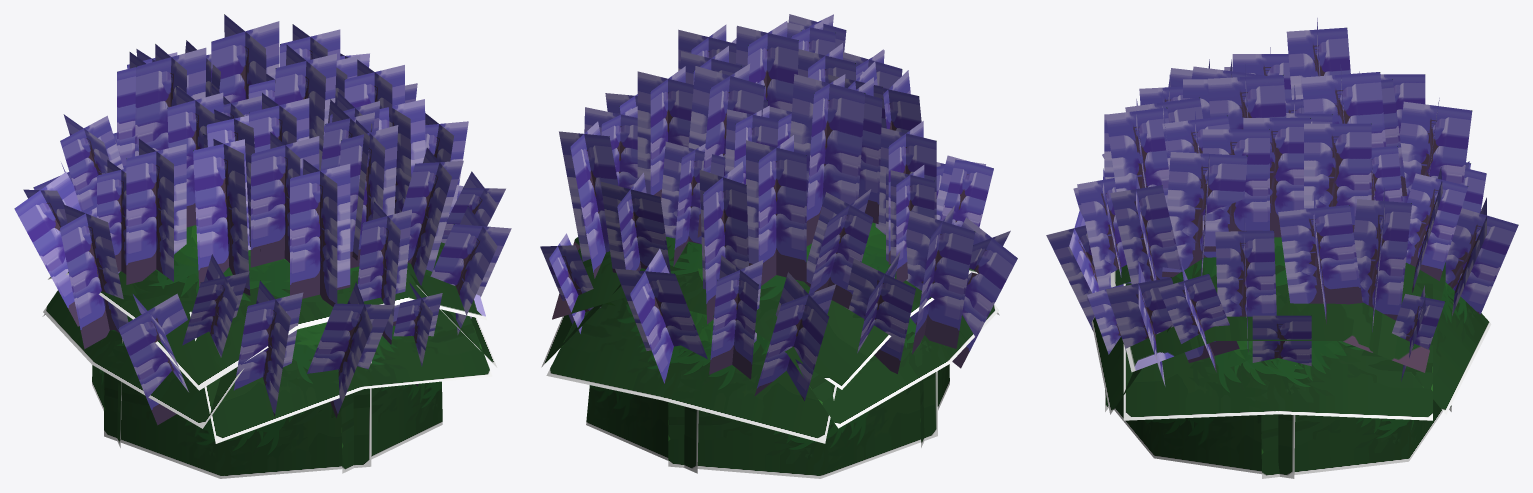
The model's file is silverlupine_03.fbx.
3 renders of one model, left to right at view 1: azimuth 30°, elevation 25°; view 2: azimuth 150°, elevation 25°; view 3: azimuth 270°, elevation 25°, orthographic. The views are drawn at different scales.
Visible parts, largest first — view 1: Flowers, Leaves; view 2: Flowers, Leaves; view 3: Flowers, Leaves.
Part boxes in pixels (x1,y1,x2,y2): Flowers: (14, 14, 511, 425); Leaves: (42, 225, 497, 478); Flowers: (540, 14, 1017, 400); Leaves: (541, 222, 999, 478); Flowers: (1046, 18, 1518, 386); Leaves: (1091, 237, 1491, 478).
Bounding box in the file's own units: 272 × 228 × 285.
